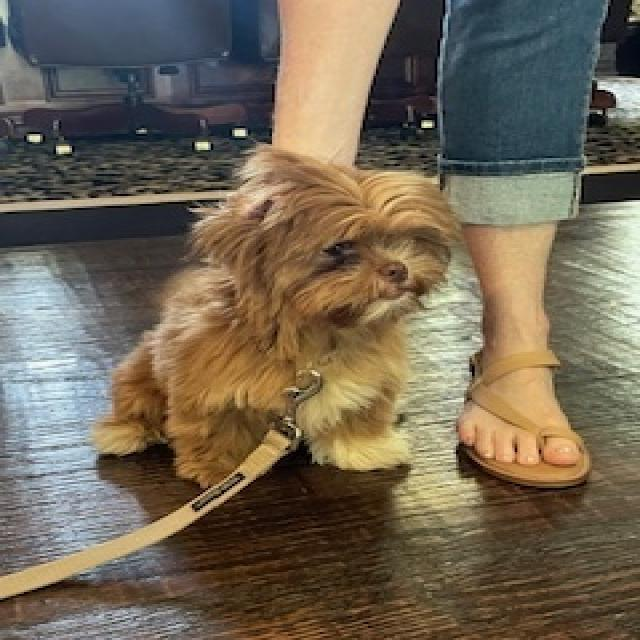shih_tzu_dog: (184, 132, 466, 352)
